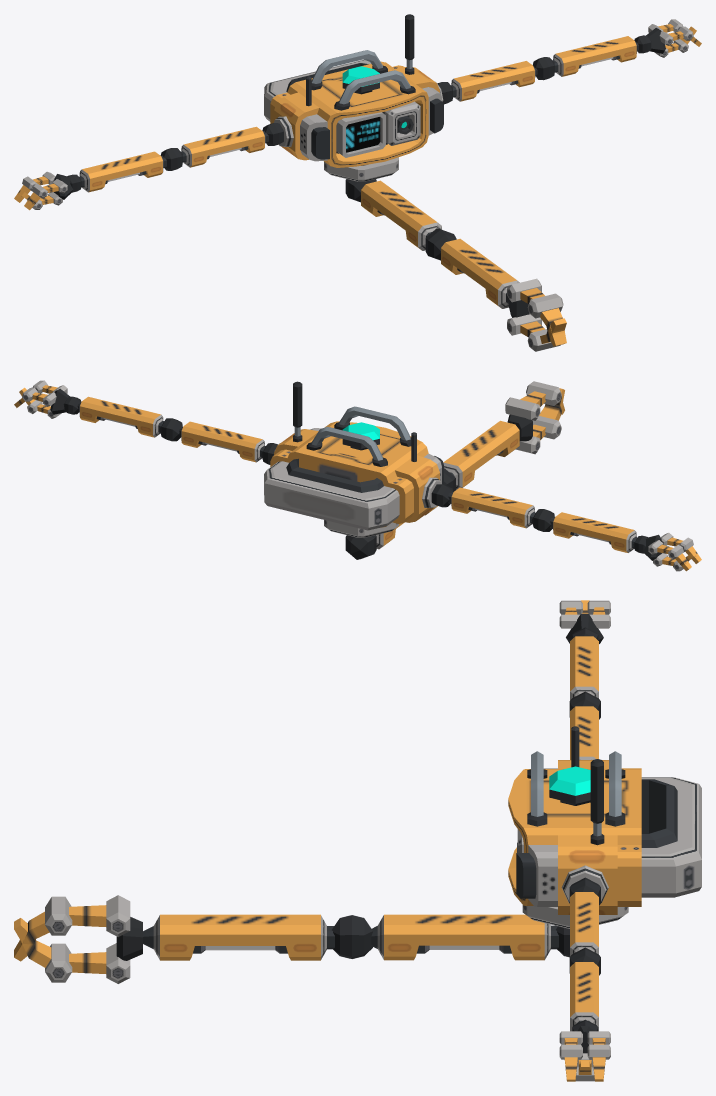
The model's file is SM_Prop_Drone_02.fbx.
3 renders of one model, top to bottom at view 1: azimuth 30°, elevation 25°; view 2: azimuth 150°, elevation 25°; view 3: azimuth 270°, elevation 25°, orthographic. The views are drawn at different scales.
Parts seen in each view (by area): view 1: SM_Prop_Drone_02, SM_Prop_Drone_02_BottomArm_02, SM_Prop_Drone_02_LeftArm_02, SM_Prop_Drone_02_RightArm_02, SM_Prop_Drone_02_Claw_01, SM_Prop_Drone_02_Claw_02, SM_Prop_Drone_02_LeftHand_01, SM_Prop_Drone_02_RightFinger_01; view 2: SM_Prop_Drone_02, SM_Prop_Drone_02_BottomArm_02, SM_Prop_Drone_02_LeftArm_02, SM_Prop_Drone_02_RightArm_02, SM_Prop_Drone_02_Claw_01, SM_Prop_Drone_02_Claw_02, SM_Prop_Drone_02_LeftHand_01, SM_Prop_Drone_02_RightFinger_011, SM_Prop_Drone_02_LeftFinger_011, SM_Prop_Drone_02_RightFinger_01, SM_Prop_Drone_02_BottomClaw_01, SM_Prop_Drone_02_RightHand_01 (+2 smaller); view 3: SM_Prop_Drone_02, SM_Prop_Drone_02_BottomArm_02, SM_Prop_Drone_02_Claw_01, SM_Prop_Drone_02_Claw_02, SM_Prop_Drone_02_LeftArm_02, SM_Prop_Drone_02_RightArm_02, SM_Prop_Drone_02_LeftFinger_01, SM_Prop_Drone_02_LeftFinger_011, SM_Prop_Drone_02_BottomClaw_01.
Boxes of the visible parts, box(x1,y1,x2,y2) form: SM_Prop_Drone_02: box(181, 14, 537, 250); SM_Prop_Drone_02_BottomArm_02: box(425, 228, 519, 308); SM_Prop_Drone_02_LeftArm_02: box(533, 36, 638, 80); SM_Prop_Drone_02_RightArm_02: box(79, 148, 182, 192); SM_Prop_Drone_02_Claw_01: box(507, 278, 566, 346); SM_Prop_Drone_02_Claw_02: box(507, 314, 566, 351); SM_Prop_Drone_02_LeftHand_01: box(634, 28, 665, 53); SM_Prop_Drone_02_RightFinger_01: box(24, 179, 67, 210); SM_Prop_Drone_02: box(179, 381, 535, 559); SM_Prop_Drone_02_BottomArm_02: box(443, 420, 519, 491); SM_Prop_Drone_02_LeftArm_02: box(77, 396, 182, 441); SM_Prop_Drone_02_RightArm_02: box(531, 509, 637, 552); SM_Prop_Drone_02_Claw_01: box(505, 381, 564, 420); SM_Prop_Drone_02_Claw_02: box(515, 388, 564, 454); SM_Prop_Drone_02_LeftHand_01: box(50, 388, 81, 414); SM_Prop_Drone_02_RightFinger_011: box(648, 540, 691, 571); SM_Prop_Drone_02_LeftFinger_011: box(14, 387, 56, 407); SM_Prop_Drone_02_RightFinger_01: box(660, 533, 701, 563); SM_Prop_Drone_02_BottomClaw_01: box(507, 414, 532, 441); SM_Prop_Drone_02_RightHand_01: box(633, 534, 662, 560); SM_Prop_Drone_02: box(371, 706, 701, 960); SM_Prop_Drone_02_BottomArm_02: box(143, 914, 372, 960); SM_Prop_Drone_02_Claw_01: box(14, 895, 130, 961); SM_Prop_Drone_02_Claw_02: box(14, 918, 130, 983); SM_Prop_Drone_02_LeftArm_02: box(569, 947, 600, 1031); SM_Prop_Drone_02_RightArm_02: box(569, 636, 600, 719); SM_Prop_Drone_02_LeftFinger_01: box(559, 1031, 582, 1081); SM_Prop_Drone_02_LeftFinger_011: box(587, 1031, 610, 1081); SM_Prop_Drone_02_BottomClaw_01: box(116, 917, 142, 960).
Size of the model in its own units: 455 by 115 by 285.
